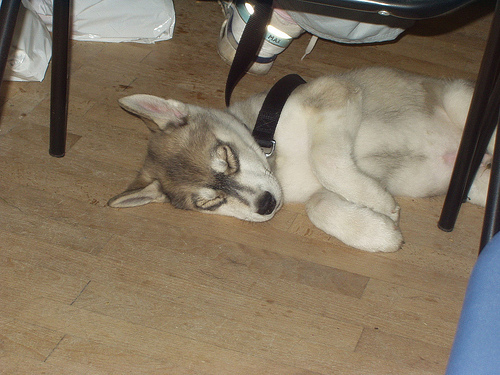dog: (103, 64, 499, 252)
